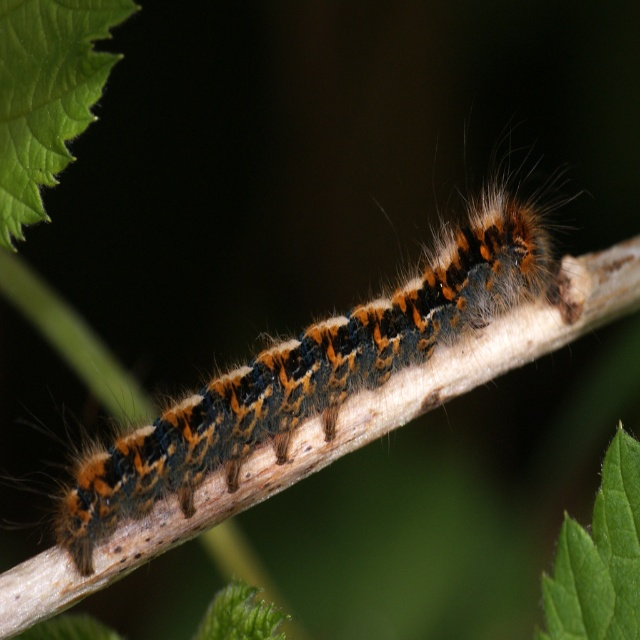Caterpillar: (30, 122, 591, 586)
